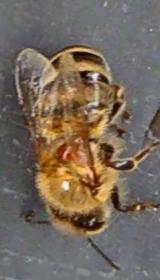varroa_mite: (55, 140, 77, 171)
